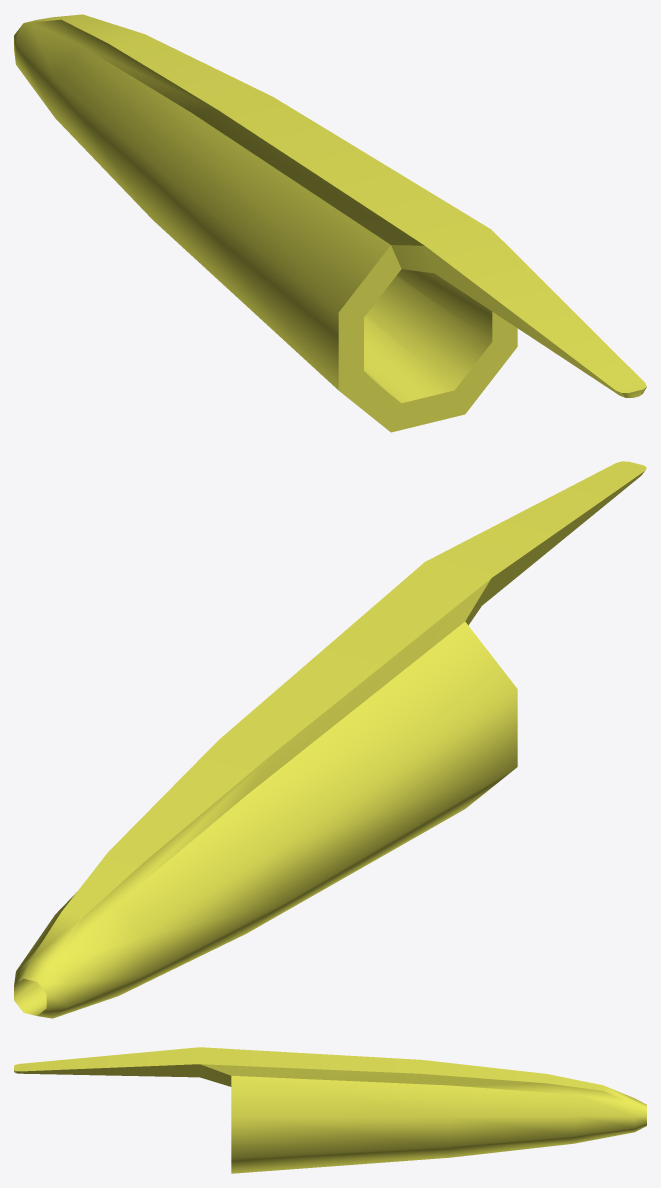
The model's file is Tapita L.fbx.
3 renders of one model, top to bottom at view 1: azimuth 30°, elevation 25°; view 2: azimuth 150°, elevation 25°; view 3: azimuth 270°, elevation 25°, orthographic. The views are drawn at different scales.
Parts seen in each view (by area): view 1: Tapita_L; view 2: Tapita_L; view 3: Tapita_L.
Part boxes in pixels (<box>): Tapita_L: <box>14,14,646,432</box>; Tapita_L: <box>14,461,646,1018</box>; Tapita_L: <box>14,1047,646,1173</box>.
Bounding box in the file's own units: 0.00809 × 0.00897 × 0.0474.
